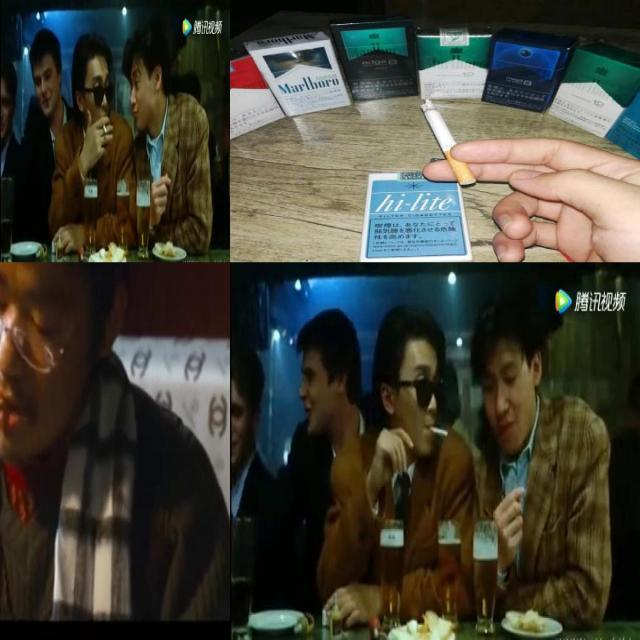cigarette: (419, 99, 477, 185), (428, 424, 449, 438), (102, 124, 108, 134)
